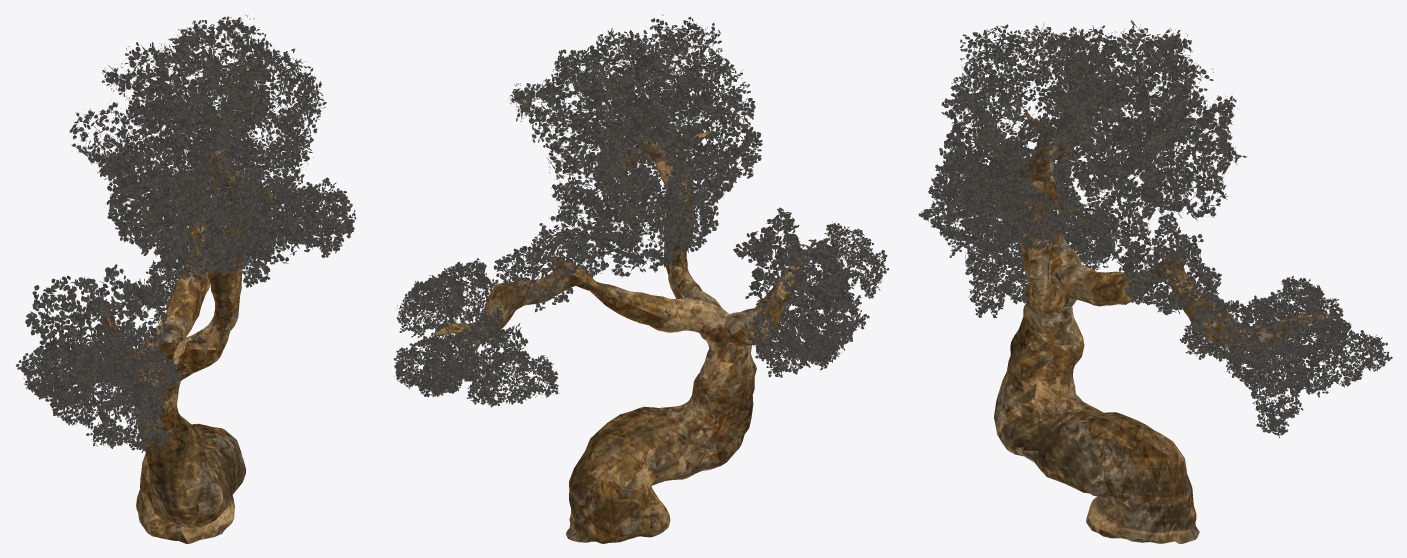
File: Tree with Animation.glb
3 renders of one model, left to right at view 1: azimuth 30°, elevation 25°; view 2: azimuth 150°, elevation 25°; view 3: azimuth 270°, elevation 25°, orthographic. The views are drawn at different scales.
Visible parts, largest first — view 1: BonsaiLeaves.002, BonsaiWood.002_Baked; view 2: BonsaiLeaves.002, BonsaiWood.002_Baked; view 3: BonsaiLeaves.002, BonsaiWood.002_Baked.
Part boxes in pixels (<box>): BonsaiLeaves.002: <box>16,15,355,452</box>; BonsaiWood.002_Baked: <box>101,123,274,543</box>; BonsaiLeaves.002: <box>393,14,889,407</box>; BonsaiWood.002_Baked: <box>431,106,803,543</box>; BonsaiLeaves.002: <box>918,20,1392,438</box>; BonsaiWood.002_Baked: <box>994,97,1341,543</box>.
Size of the model in its own units: 11.71 by 15.09 by 12.6.
Materials: 2 (2 with a texture image).
